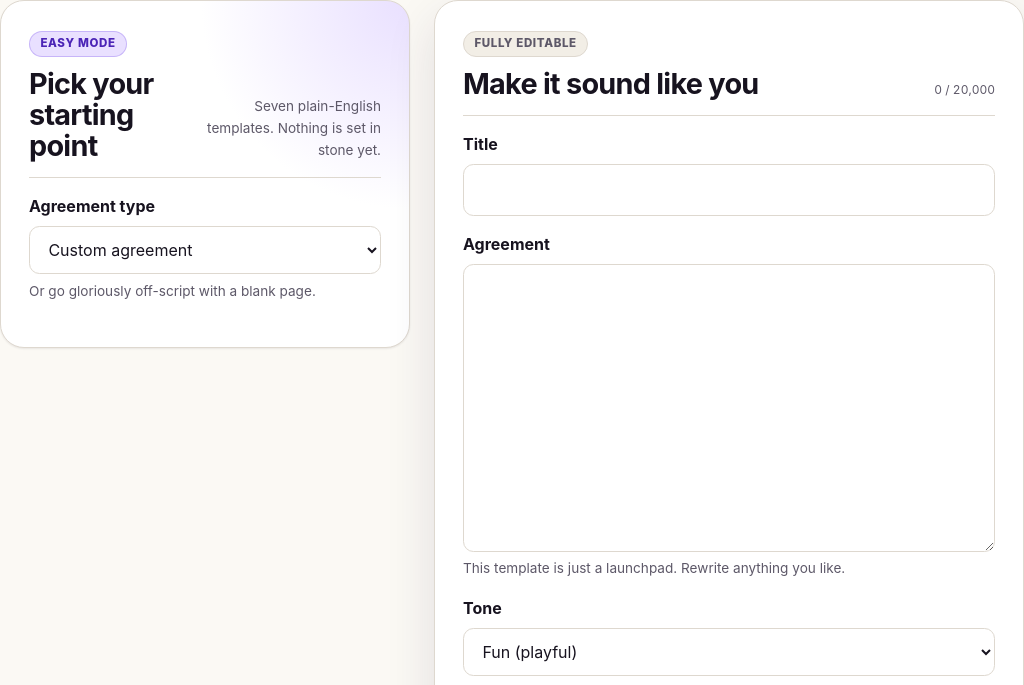
Scenario: ContractForm easter egg › winks when a reserved name is typed into a template party field
The width and height of the screenshot is (1024, 685).
Expected: the text "you found the easter egg" is not shown
Step 1. Select "Bet or dare" in the dropdown labelled "Agreement type" → (205, 250), box [29,226,381,274]
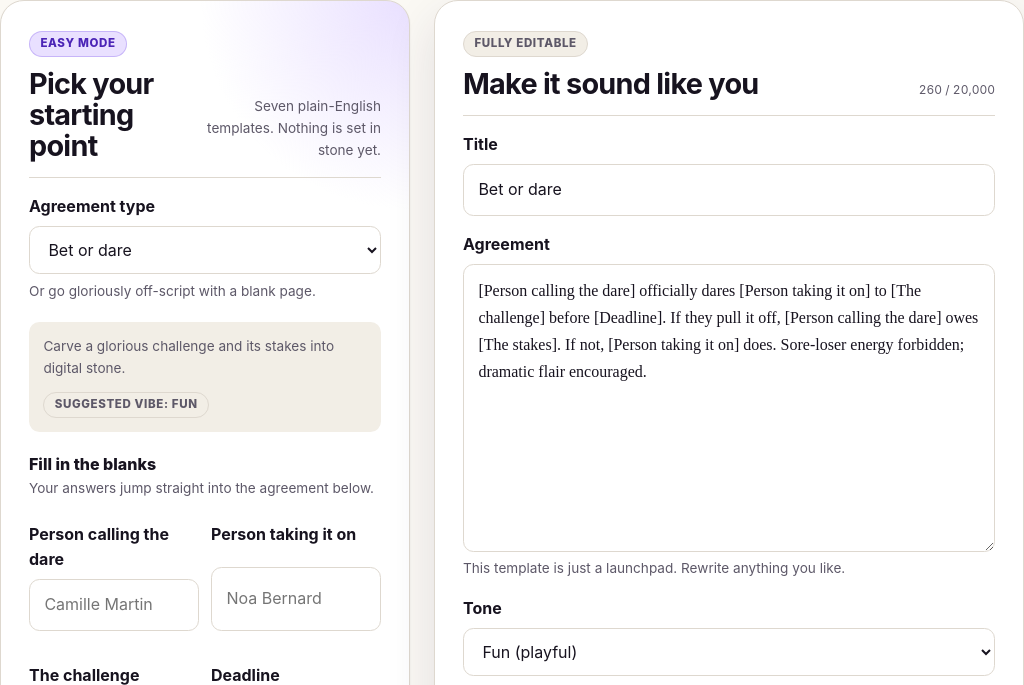
Step 2. Type "Racoon" into the field labelled "Person calling the dare" → (114, 605), box [29,579,199,631]
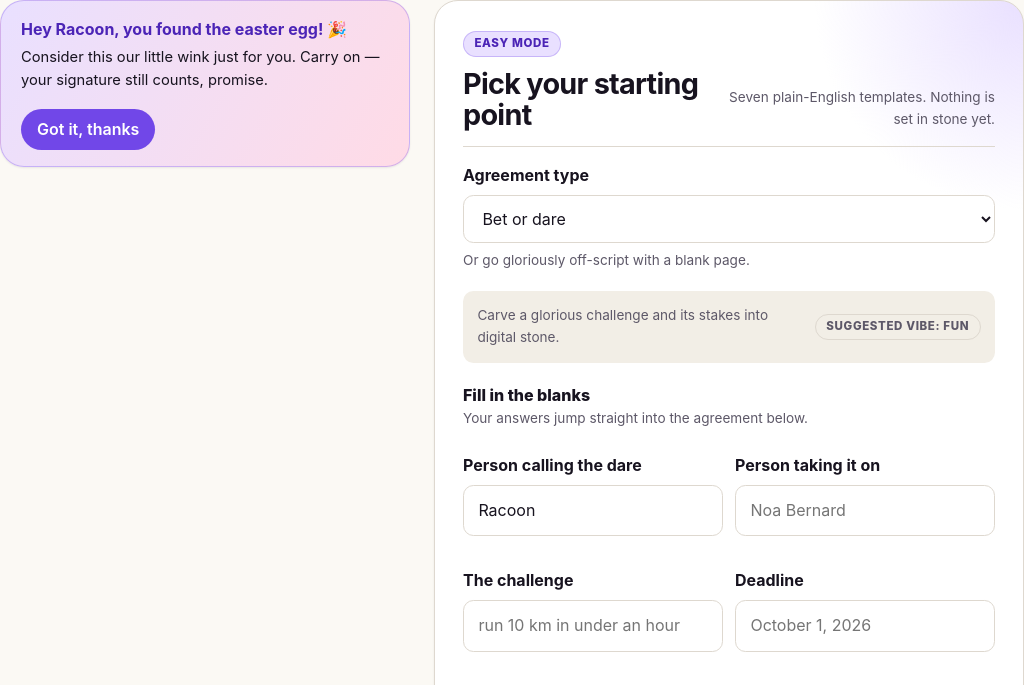
Expected: the message "Hey Racoon, you found the easter egg! 🎉 Consider this our little wink just for" is shown, [0,0,410,168]
Expected: the text "Hey Racoon, you found the easter egg! 🎉" is shown, [21,17,389,43]
